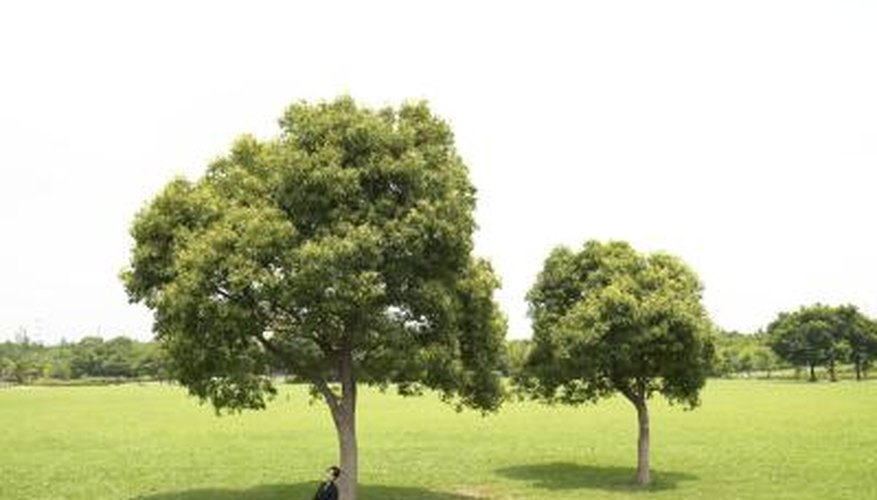tree: (112, 87, 527, 500), (518, 235, 719, 493)
